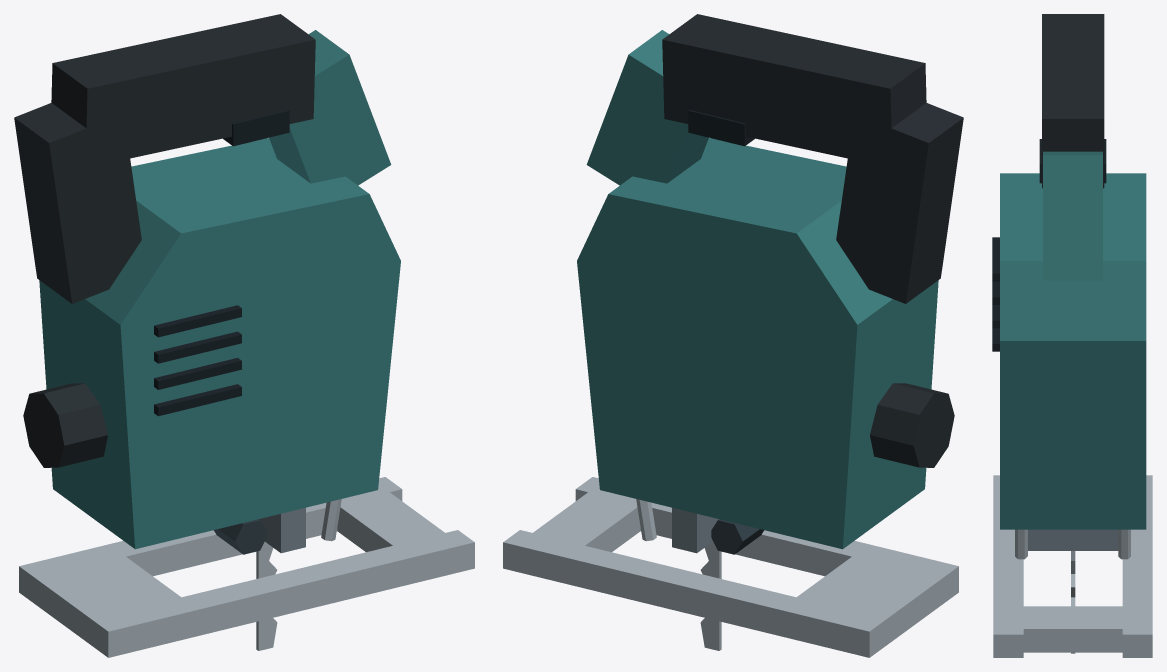
File: b06_jigsaw.glb
3 renders of one model, left to right at view 1: azimuth 30°, elevation 25°; view 2: azimuth 150°, elevation 25°; view 3: azimuth 270°, elevation 25°, orthographic. The views are drawn at different scales.
Parts seen in each view (by area): view 1: b06_jigsaw; view 2: b06_jigsaw; view 3: b06_jigsaw.
Part boxes in pixels (x1=…): b06_jigsaw: x1=14, y1=14, x2=474, y2=657; b06_jigsaw: x1=503, y1=14, x2=963, y2=657; b06_jigsaw: x1=992, y1=14, x2=1152, y2=657.
Size of the model in its own units: 0.1903 by 0.283 by 0.0745.
